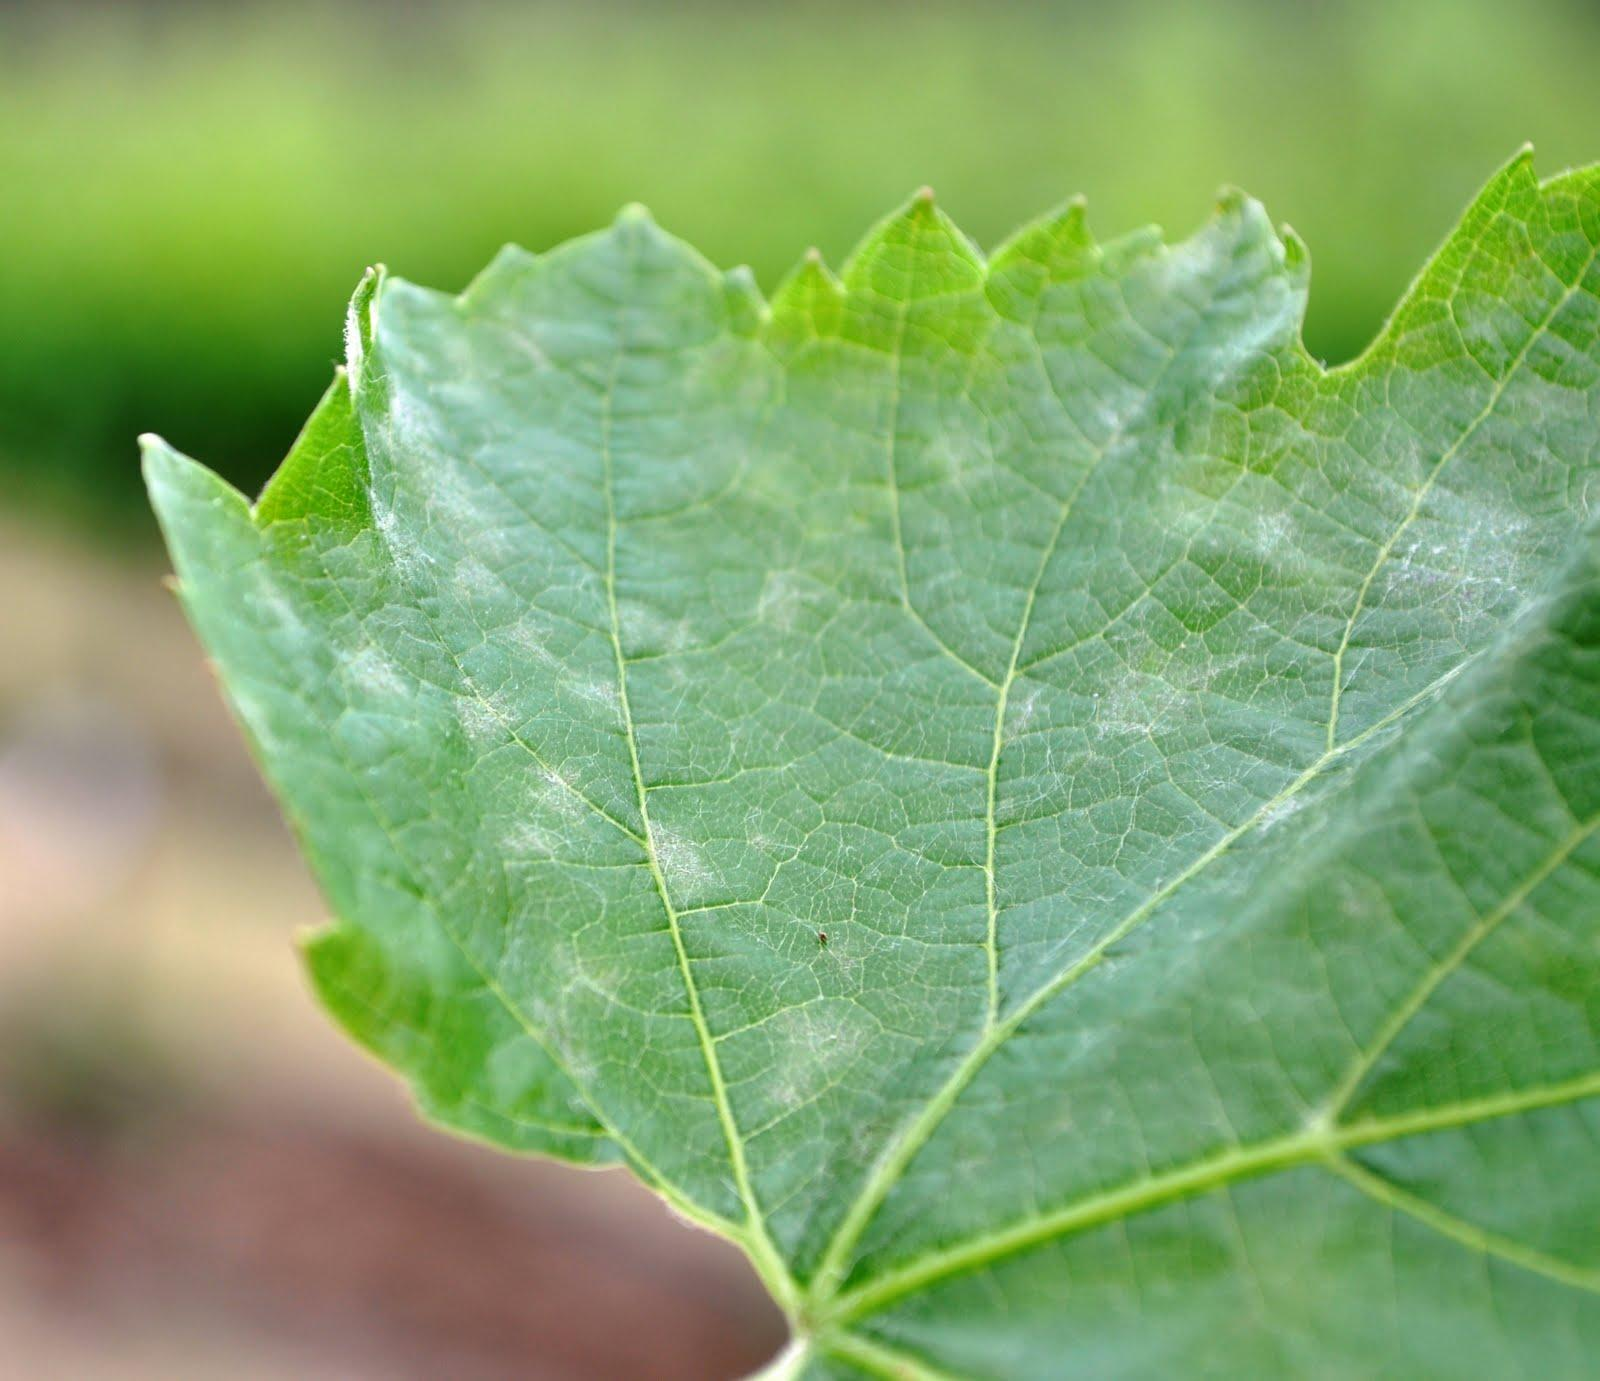Squash Powdery mildew leaf: (146, 98, 1600, 1331)
